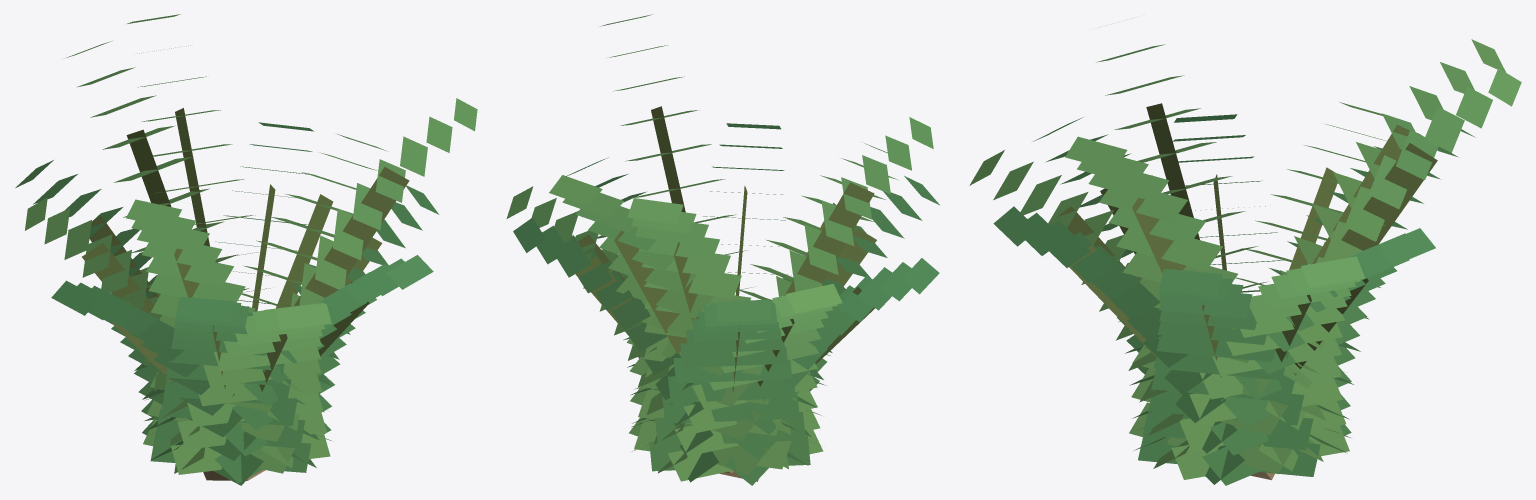
Rendered from fern_plant_far.82e2d32e.glb.
The picture shows the model from 3 angles, left to right: view 1: azimuth 30°, elevation 25°; view 2: azimuth 150°, elevation 25°; view 3: azimuth 270°, elevation 25°; orthographic projection. The views are drawn at different scales.
Visible parts, largest first — view 1: fern_plant; view 2: fern_plant; view 3: fern_plant.
Boxes of the visible parts, x1,y1,x2,y2 form: fern_plant: (15, 14, 477, 485); fern_plant: (506, 14, 939, 485); fern_plant: (969, 39, 1521, 485).
Bounding box in the file's own units: 0.8916 × 0.8454 × 1.01.
